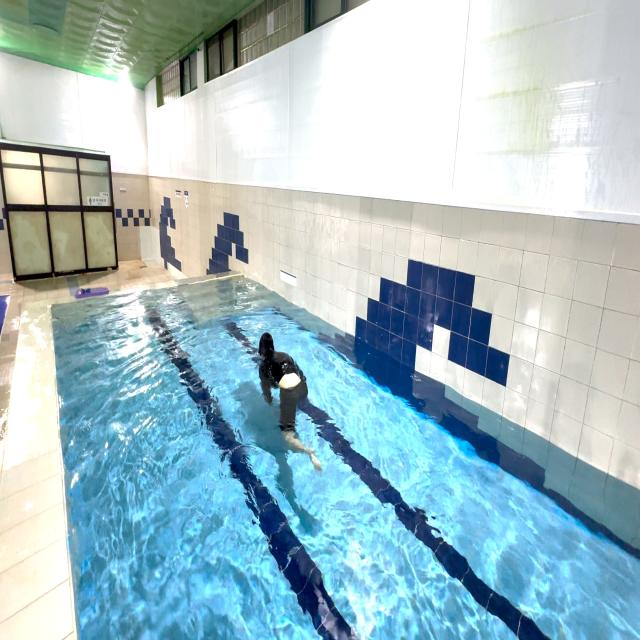Drowning: (253, 322, 329, 486)
